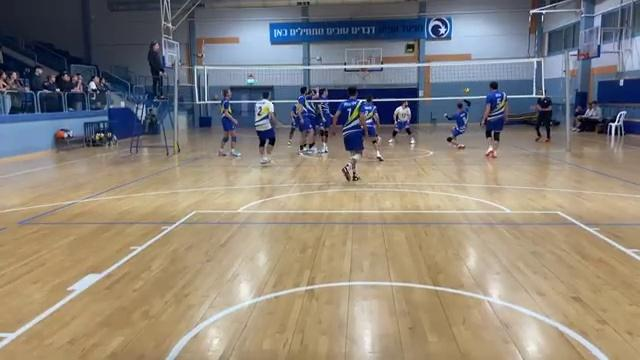ball: (463, 86, 474, 97)
